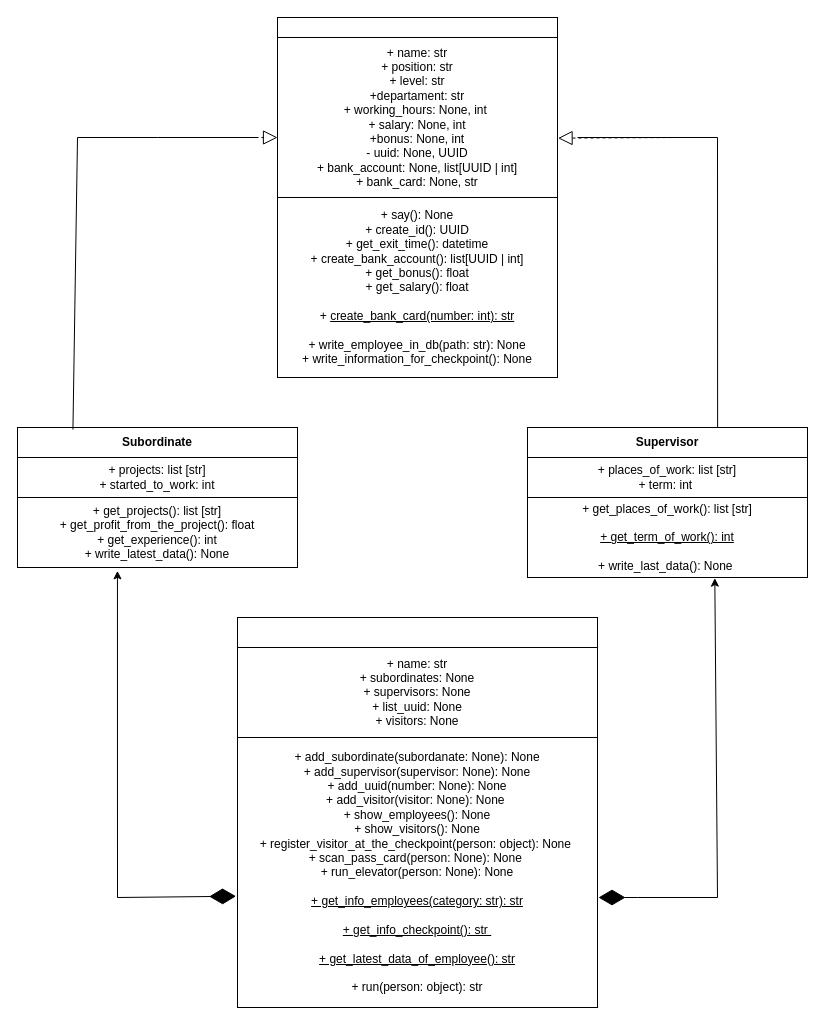
The diagram is 825 pixels wide and 1025 high, and some of its shapes have lost their labels. The shapes that lost their labels are listed below. From the top down, each one's centre as x and y in pixels, then its label:
(417,27): Person
(417,632): Company
